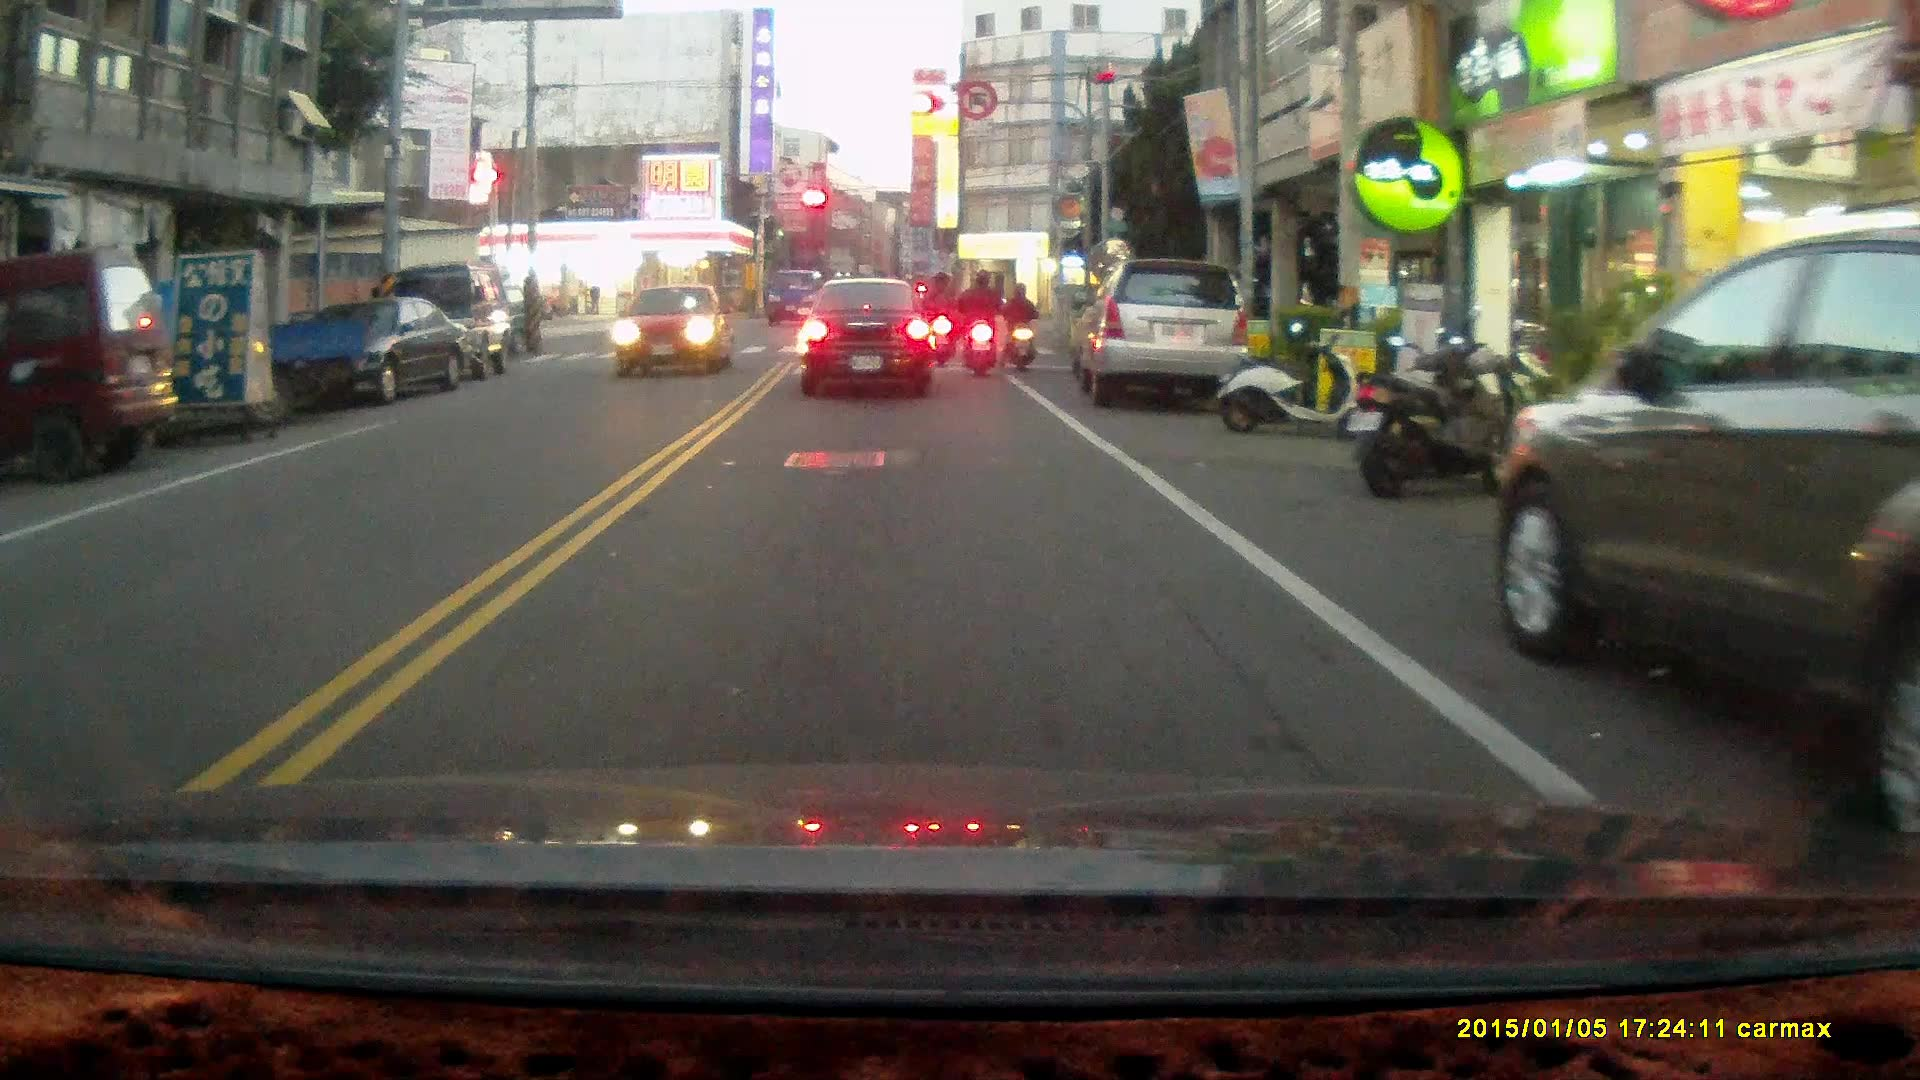rider: (955, 269, 1005, 379), (922, 270, 958, 369), (1002, 282, 1037, 375)
vehicle: (1492, 230, 1920, 838), (1, 250, 181, 479), (1070, 257, 1257, 417), (262, 293, 477, 406), (383, 258, 519, 385), (799, 275, 938, 400), (613, 284, 730, 379)
